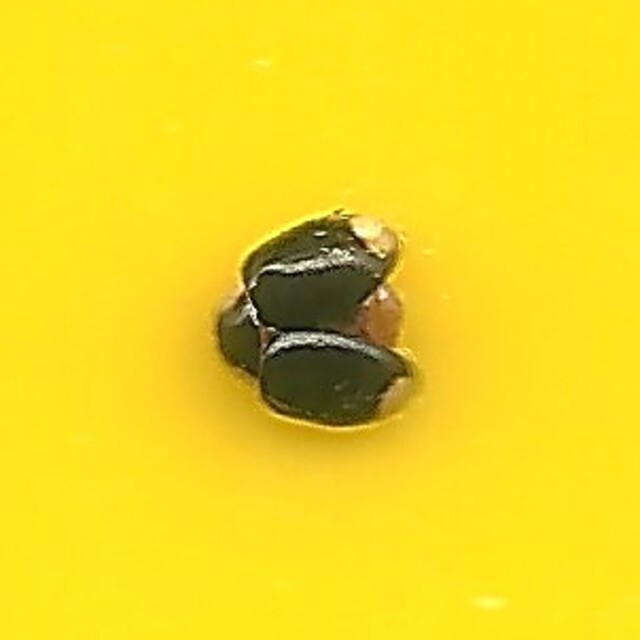Coleoptera: (212, 208, 428, 432)
